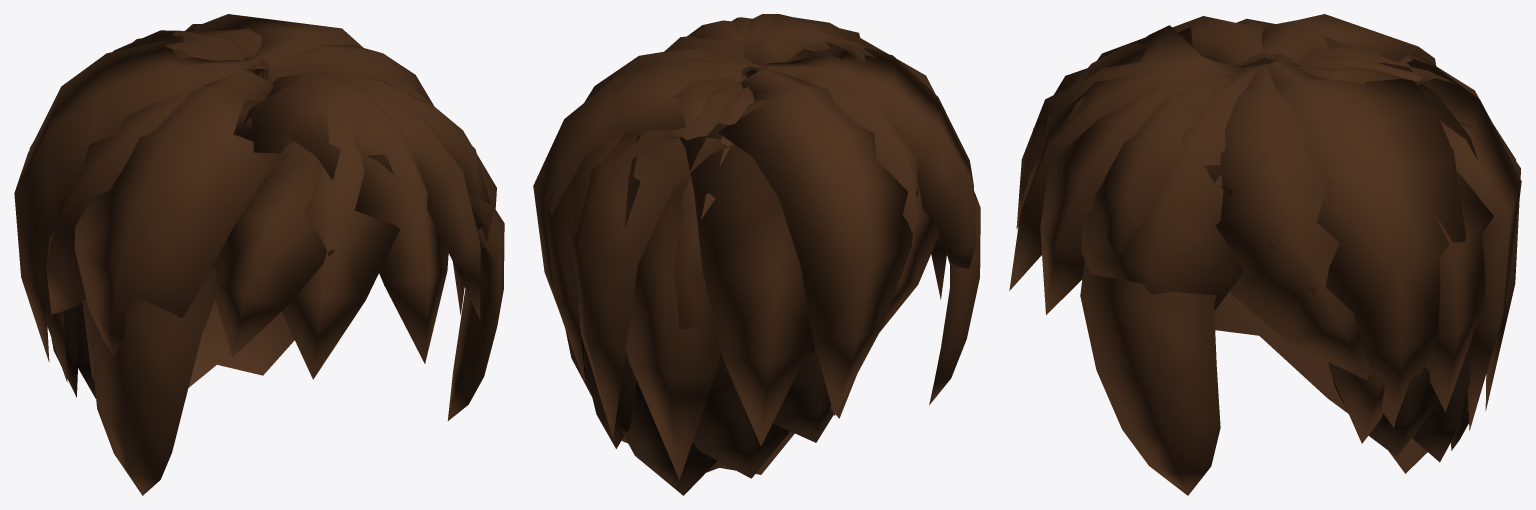
Rendered from hair_f_curto_f.glb.
3 views of the same model, side by side, from view 1: azimuth 30°, elevation 25°; view 2: azimuth 150°, elevation 25°; view 3: azimuth 270°, elevation 25° (orthographic). The views are drawn at different scales.
Parts seen in each view (by area): view 1: HairTop, HairCap, HairUnder; view 2: HairTop, HairUnder; view 3: HairTop, HairUnder, HairCap.
Part boxes in pixels (box(x1,y1,x2,y2)): HairTop: box(14, 14, 504, 495); HairCap: box(82, 298, 294, 387); HairUnder: box(51, 302, 95, 398); HairTop: box(533, 14, 980, 479); HairUnder: box(565, 329, 833, 495); HairTop: box(1009, 14, 1521, 495); HairUnder: box(1328, 355, 1470, 462); HairCap: box(1214, 292, 1427, 473).
Bounding box in the file's own units: 0.2364 × 0.2408 × 0.2727.
